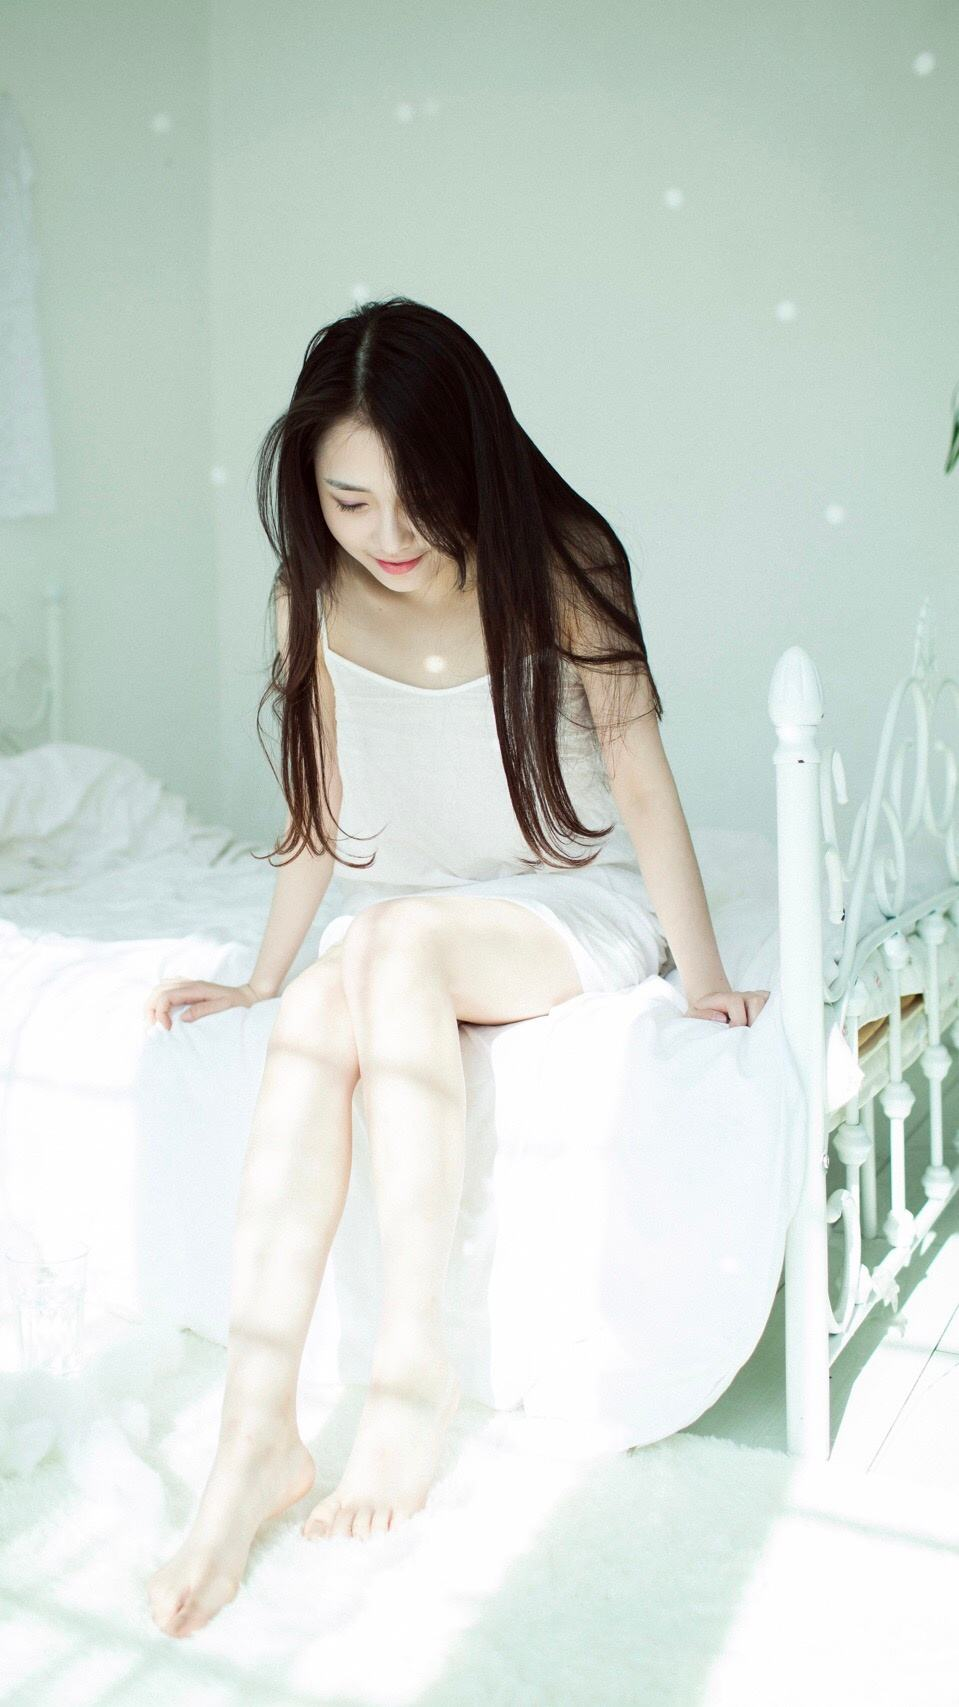person: (194, 342, 881, 1491)
